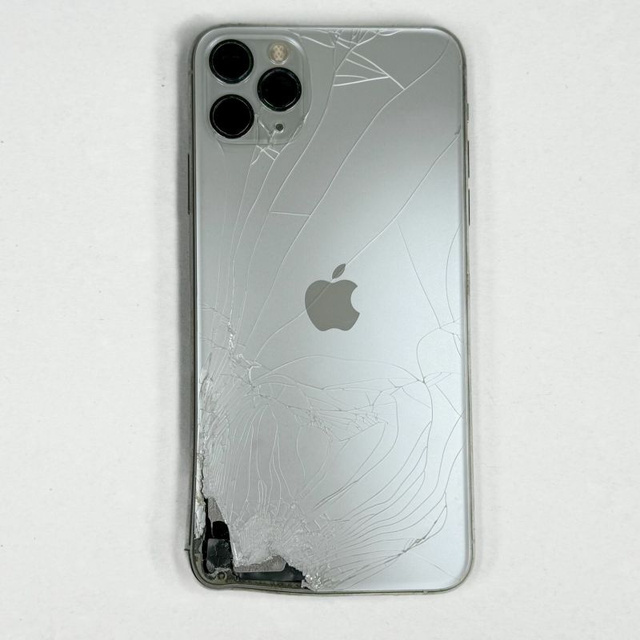crack_phone: (169, 9, 490, 605)
